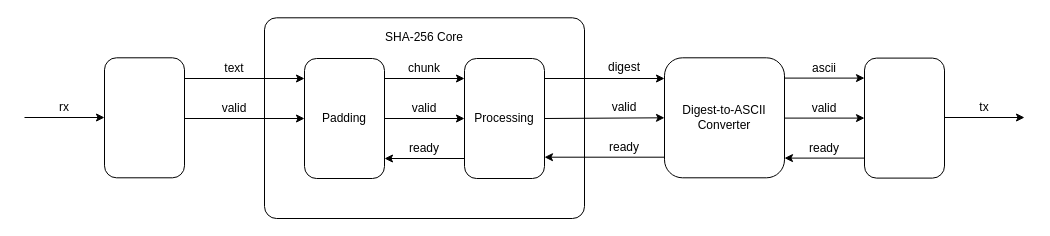
This 1050x236 diagram has some shape labels left out. Each missing label, with the centre of its shape:
"UART Receiver" goes at pixel 144 117.
"UART Transmitter" goes at pixel 904 117.
